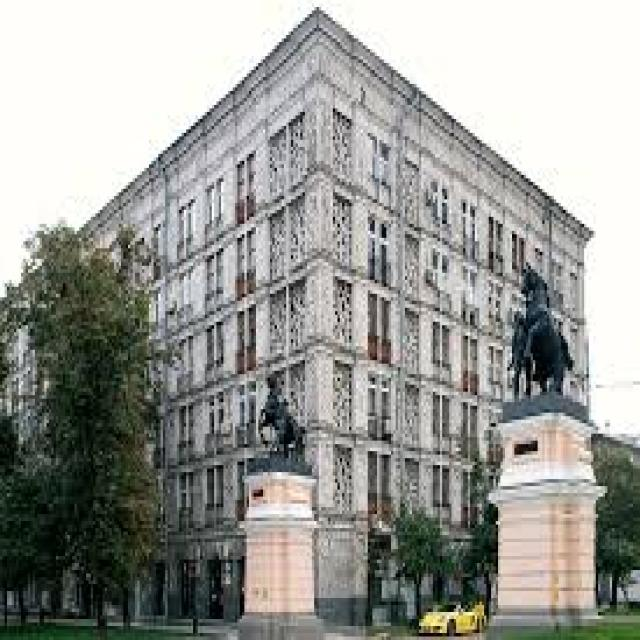window: (365, 220, 389, 298), (370, 458, 396, 518), (370, 136, 389, 200), (370, 307, 389, 363), (370, 384, 389, 440)
